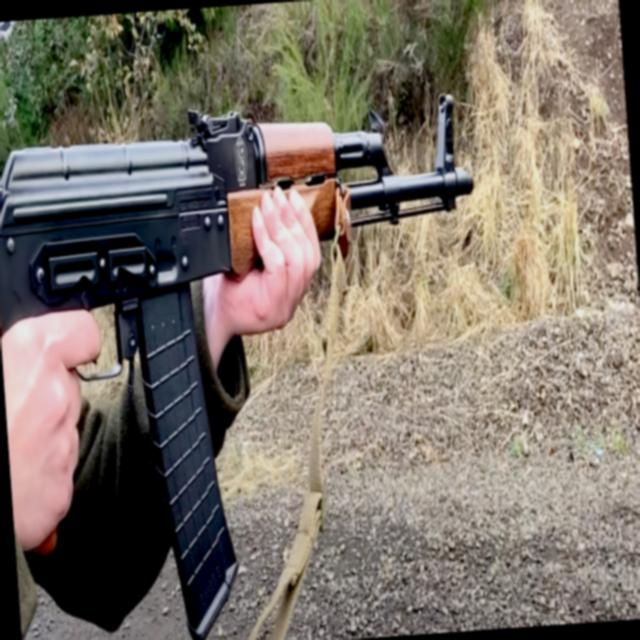ak: (0, 71, 507, 640)
